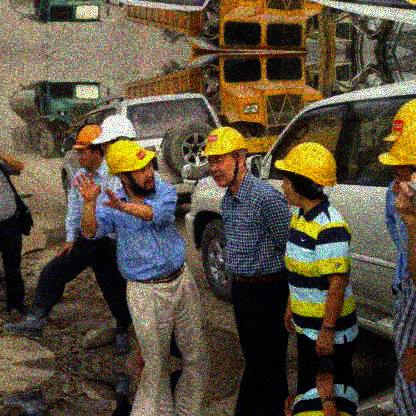helmet: (274, 142, 339, 208), (201, 126, 249, 188), (106, 139, 158, 192)
